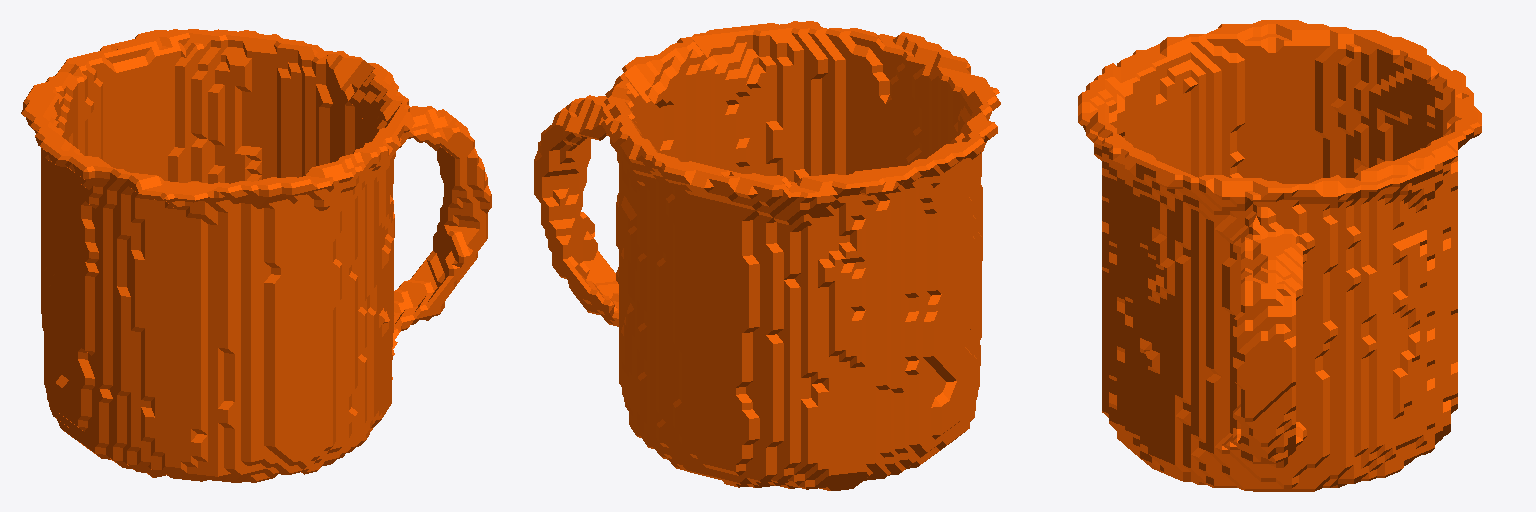
URDF robot description (Black_mug):
<robot name="Black_mug">
   <material name="obj_color">
      <color rgba="1.0 0.423529411765 0.0392156862745 1.0" />
   </material>
   <link name="top">
      <inertial>
         <origin rpy="0.0002428834677183614 0.0002677599822338278 0.0003076711223620594" xyz="-0.001493353291556548 -0.0005650120750078432 -0.007062639445470989" />
         <mass value="0.24875" />
         <inertia ixx="0.0002432260992015426" ixy="1.842447487516277e-06" ixz="-3.901845760641002e-06" iyy="0.0002680088425010346" iyz="-3.639639952911348e-06" izz="0.0003070796306116715" />
      </inertial>
      <visual>
         <origin rpy="0 0 0" xyz="0 0 0" />
         <geometry>
            <mesh filename="top_watertight_tiny.stl" scale="1 1 1" />
         </geometry>
         <material name="obj_color" />
      </visual>
      <collision>
         <origin rpy="0 0 0" xyz="0 0 0" />
         <geometry>
            <mesh filename="top_watertight_tiny.obj" scale="1 1 1" />
         </geometry>
      </collision>
   </link>
   <link name="bottom">
      <inertial>
         <origin rpy="1.633333333194242e-08 1.633333333194243e-08 1.633333333357667e-08" xyz="0.3464080000000008 0.3464080000000008 0.3464080000000008" />
         <mass value="0.0009800000000000017" />
         <inertia ixx="1.633333333248717e-08" ixy="5.447480642029219e-19" ixz="5.447480642029219e-19" iyy="1.633333333248717e-08" iyz="5.447480642029219e-19" izz="1.633333333248717e-08" />
      </inertial>
      <visual>
         <origin rpy="0 0 0" xyz="0 0 0" />
         <geometry>
            <mesh filename="bottom_watertight_tiny.stl" scale="1 1 1" />
         </geometry>
         <material name="obj_color" />
      </visual>
   </link>
   <link name="world" />
   <joint name="world_to_base" type="fixed">
      <origin xyz="0 0 0" />
      <axis xyz="0 0 0" />
      <parent link="world" />
      <child link="bottom" />
   </joint>
   <joint name="rotation" type="revolute">
      <origin xyz="0 0 0" />
      <axis xyz="0 0 -1" />
      <parent link="bottom" />
      <child link="top" />
      <dynamics damping="1.0" friction="1.0" />
      <limit effort="0.1" velocity="0.1" lower="0" upper="0.001" />
   </joint>
</robot>

--- Render facts (derived) ---
3 views of the same robot in one strip: view 1: azimuth 30°, elevation 25°; view 2: azimuth 150°, elevation 25°; view 3: azimuth 270°, elevation 25° (orthographic).
Robot: Black_mug — 3 links, 2 joints (1 revolute, 1 fixed); root link world; default pose: all joints at 0.
Visible links, largest first — view 1: top; view 2: top; view 3: top.
Link boxes in pixels (left/top/right/bottom): top: left=21, top=29, right=491, bottom=482; top: left=534, top=21, right=1000, bottom=490; top: left=1078, top=20, right=1481, bottom=491.
Size in the robot's own frame: 0.1146 by 0.0917 by 0.0811 metres.
Meshes: 2 distinct files referenced, 1 mesh visuals loaded (1 binary STL); not drawn: 1 (reference not matched to a file when rendering).